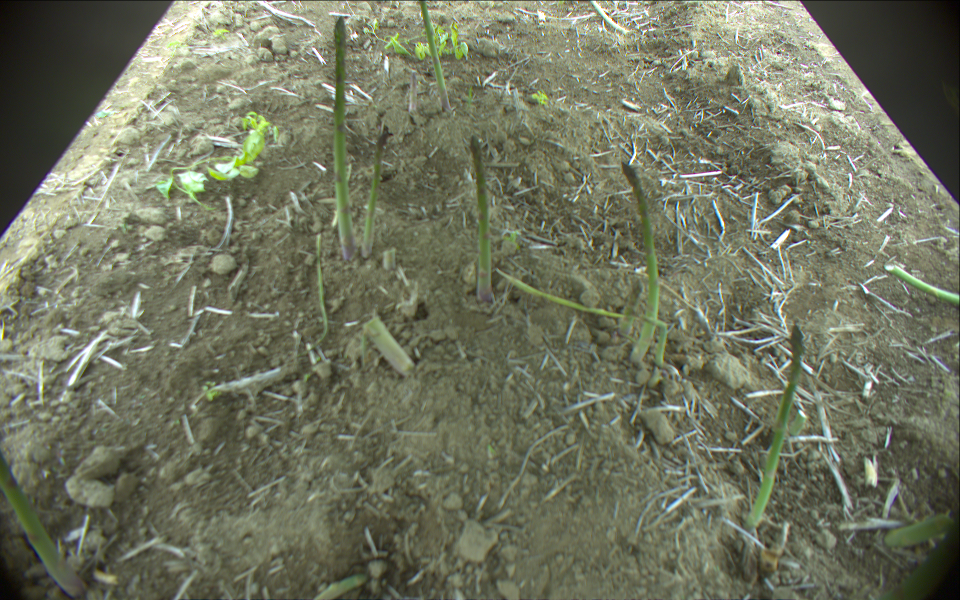aspa: (1, 445, 91, 597), (746, 324, 805, 527), (326, 16, 360, 261), (619, 162, 660, 364), (469, 135, 495, 309), (360, 126, 392, 261), (420, 1, 455, 115), (883, 263, 960, 308), (883, 509, 956, 549), (585, 1, 631, 38), (642, 313, 667, 364), (406, 73, 419, 116)
